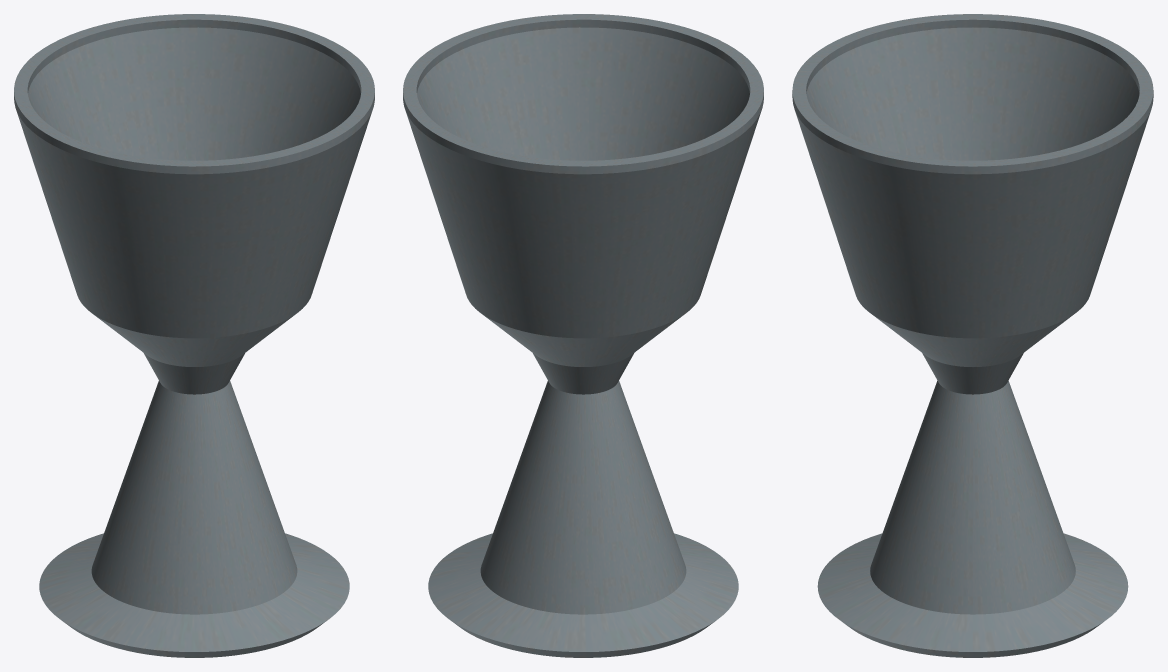
File: misc_com_metal_goblet_01.dae
The picture shows the model from 3 angles, left to right: view 1: azimuth 30°, elevation 25°; view 2: azimuth 150°, elevation 25°; view 3: azimuth 270°, elevation 25°; orthographic projection.
Parts seen in each view (by area): view 1: silver; view 2: silver; view 3: silver.
Part boxes in pixels (<box>): silver: <box>14,14,374,657</box>; silver: <box>403,14,763,657</box>; silver: <box>792,14,1153,657</box>.
Size of the model in its own units: 8.47 by 8.47 by 13.14.
